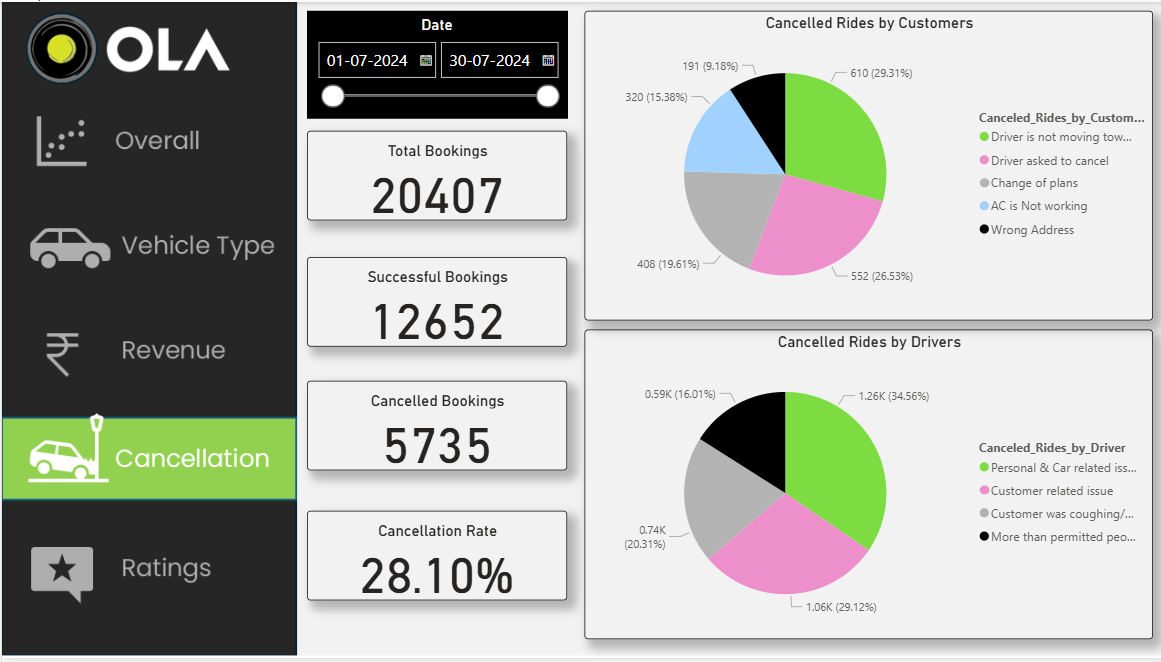

Layout of this report page (visuals, bound fields, positions):
{"tool":"powerbi","page":{"name":"Cancellation","canvas":[1280,720],"ordinal":3},"visuals":[{"type":"actionButton","box":[0,219.6,322.1,94.1],"z":0},{"type":"actionButton","box":[0,331.8,322.1,94.1],"z":1000},{"type":"actionButton","box":[0,575.5,322.1,94.1],"z":2000},{"type":"actionButton","box":[0,103.8,322.1,94.1],"z":3000},{"type":"pieChart","title":"Cancelled Rides by Customers","fields":{"Category":["Bookings.Canceled_Rides_by_Customer"],"Y":["CountNonNull(Bookings.Canceled_Rides_by_Customer)"]},"box":[639.5,9.6,624.4,340.3],"z":4000},{"type":"pieChart","title":"Cancelled Rides by Drivers","fields":{"Category":["Bookings.Canceled_Rides_by_Driver"],"Y":["CountNonNull(Bookings.Canceled_Rides_by_Driver)"]},"box":[639.5,359.5,624.4,340.3],"z":5000},{"type":"slicer","title":"Date","fields":{"Values":["Bookings.Date"]},"box":[334.8,9.6,285.4,118],"z":6000},{"type":"card","title":"Total Bookings","fields":{"Values":["CountNonNull(Bookings.Booking_ID)"]},"box":[334.8,141.3,285.4,98.8],"z":7000},{"type":"card","title":"Successful Bookings","fields":{"Values":["CountNonNull(Bookings.Booking_ID)"]},"box":[334.8,279.9,285.4,98.8],"z":8000},{"type":"card","title":"Cancelled Bookings","fields":{"Values":["CountNonNull(Bookings.Booking_ID)"]},"box":[334.8,415.8,285.4,98.8],"z":9000},{"type":"card","title":"Cancellation Rate","fields":{"Values":["Bookings.Cancelled_Percentage"]},"box":[334.8,558.5,285.4,98.8],"z":10000}]}

Visuals, with their boxes in screenshot pixels (x1, y1, x2, y2), scaled from the page's 1280x720 canvas onto the 1161x662 screenshot:
actionButton: rect(0, 202, 292, 288)
actionButton: rect(0, 305, 292, 392)
actionButton: rect(0, 529, 292, 616)
actionButton: rect(0, 95, 292, 182)
"Cancelled Rides by Customers" pieChart: rect(580, 9, 1146, 322)
"Cancelled Rides by Drivers" pieChart: rect(580, 331, 1146, 643)
"Date" slicer: rect(304, 9, 563, 117)
"Total Bookings" card: rect(304, 130, 563, 221)
"Successful Bookings" card: rect(304, 257, 563, 348)
"Cancelled Bookings" card: rect(304, 382, 563, 473)
"Cancellation Rate" card: rect(304, 514, 563, 604)
